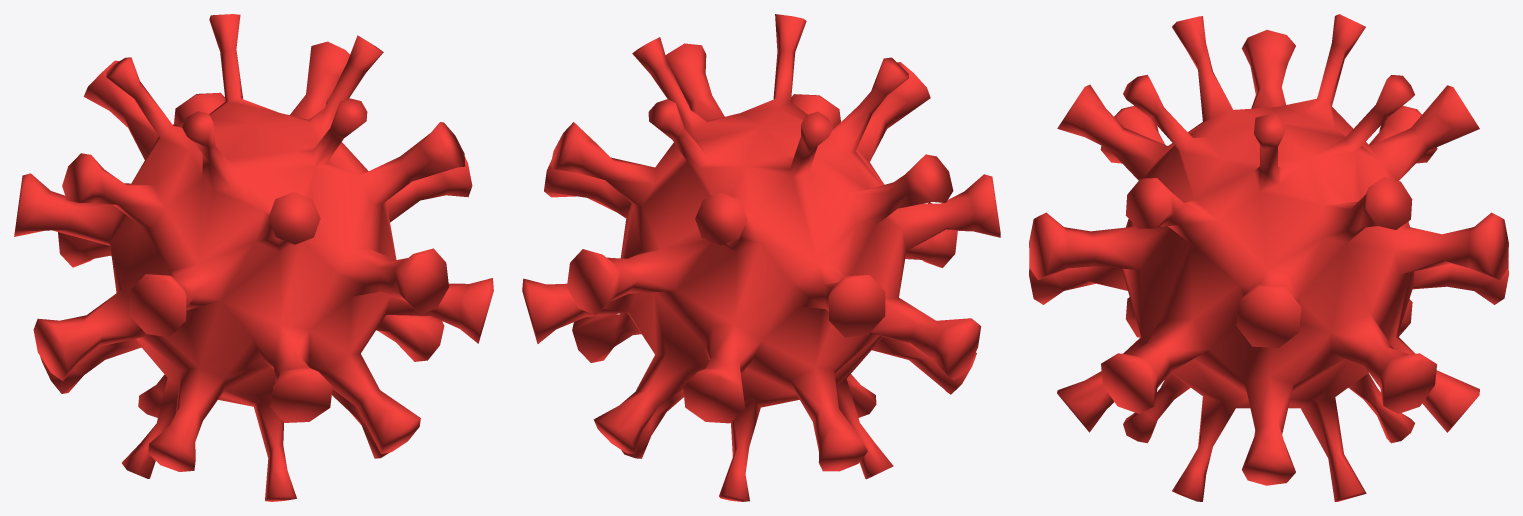
Rendered from monster5.fbx.
3 renders of one model, left to right at view 1: azimuth 30°, elevation 25°; view 2: azimuth 150°, elevation 25°; view 3: azimuth 270°, elevation 25°, orthographic. The views are drawn at different scales.
Parts seen in each view (by area): view 1: monster5; view 2: monster5; view 3: monster5.
Part boxes in pixels (x1,y1,x2,y2): monster5: (14,14,493,501); monster5: (522,14,1000,501); monster5: (1029,14,1508,501).
Size of the model in its own units: 55.37 by 49.04 by 53.54.
